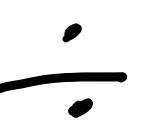div: (0, 22, 128, 115)
